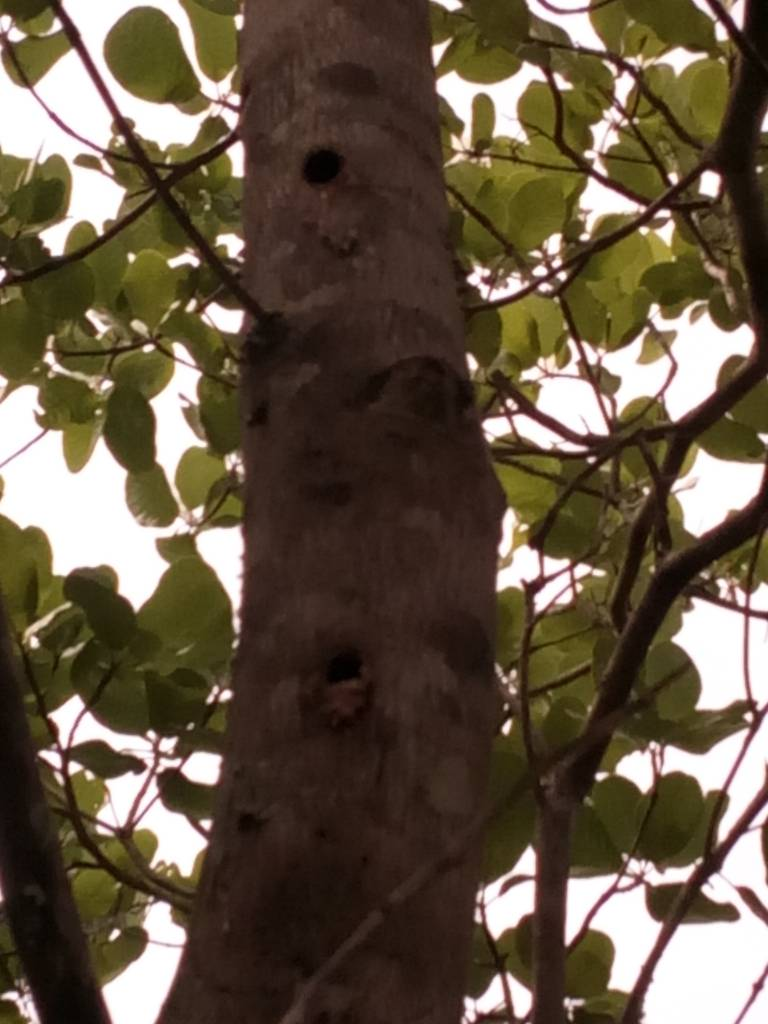Apate terebrans: (261, 114, 432, 255)
